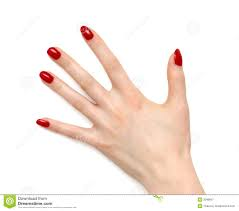hand: (20, 14, 212, 181)
